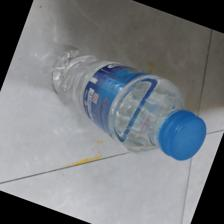Lavie: (51, 52, 207, 160)
